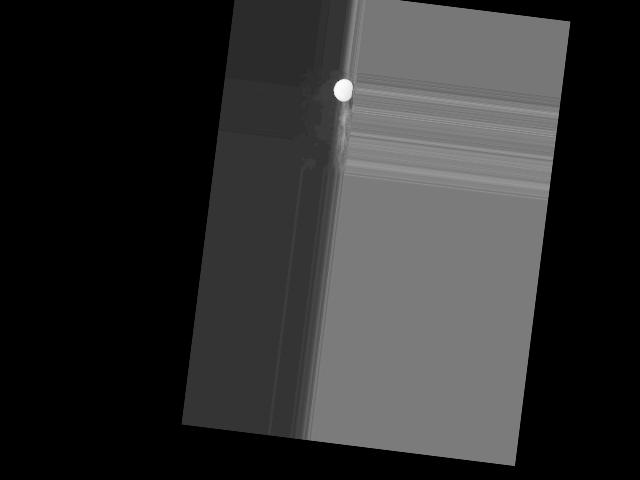egg: (332, 78, 353, 103)
